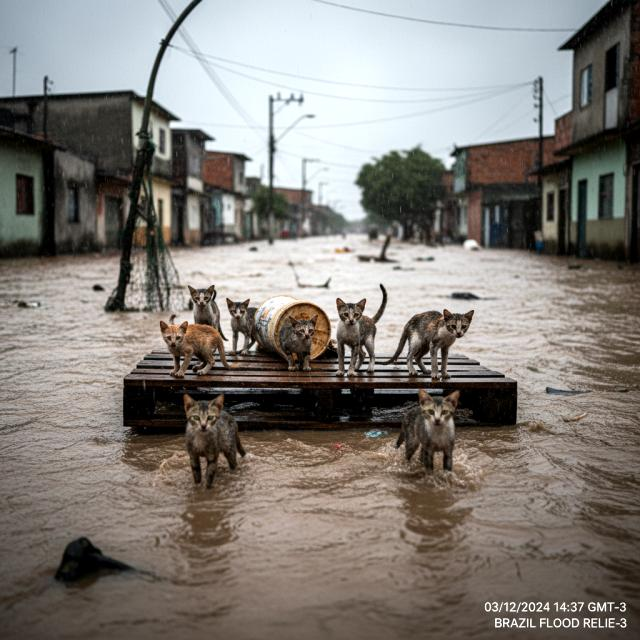cat: (181, 390, 257, 493), (386, 383, 469, 477), (380, 302, 480, 380), (330, 281, 392, 381), (158, 317, 242, 380), (188, 283, 226, 354), (224, 293, 262, 359), (279, 312, 320, 372)
